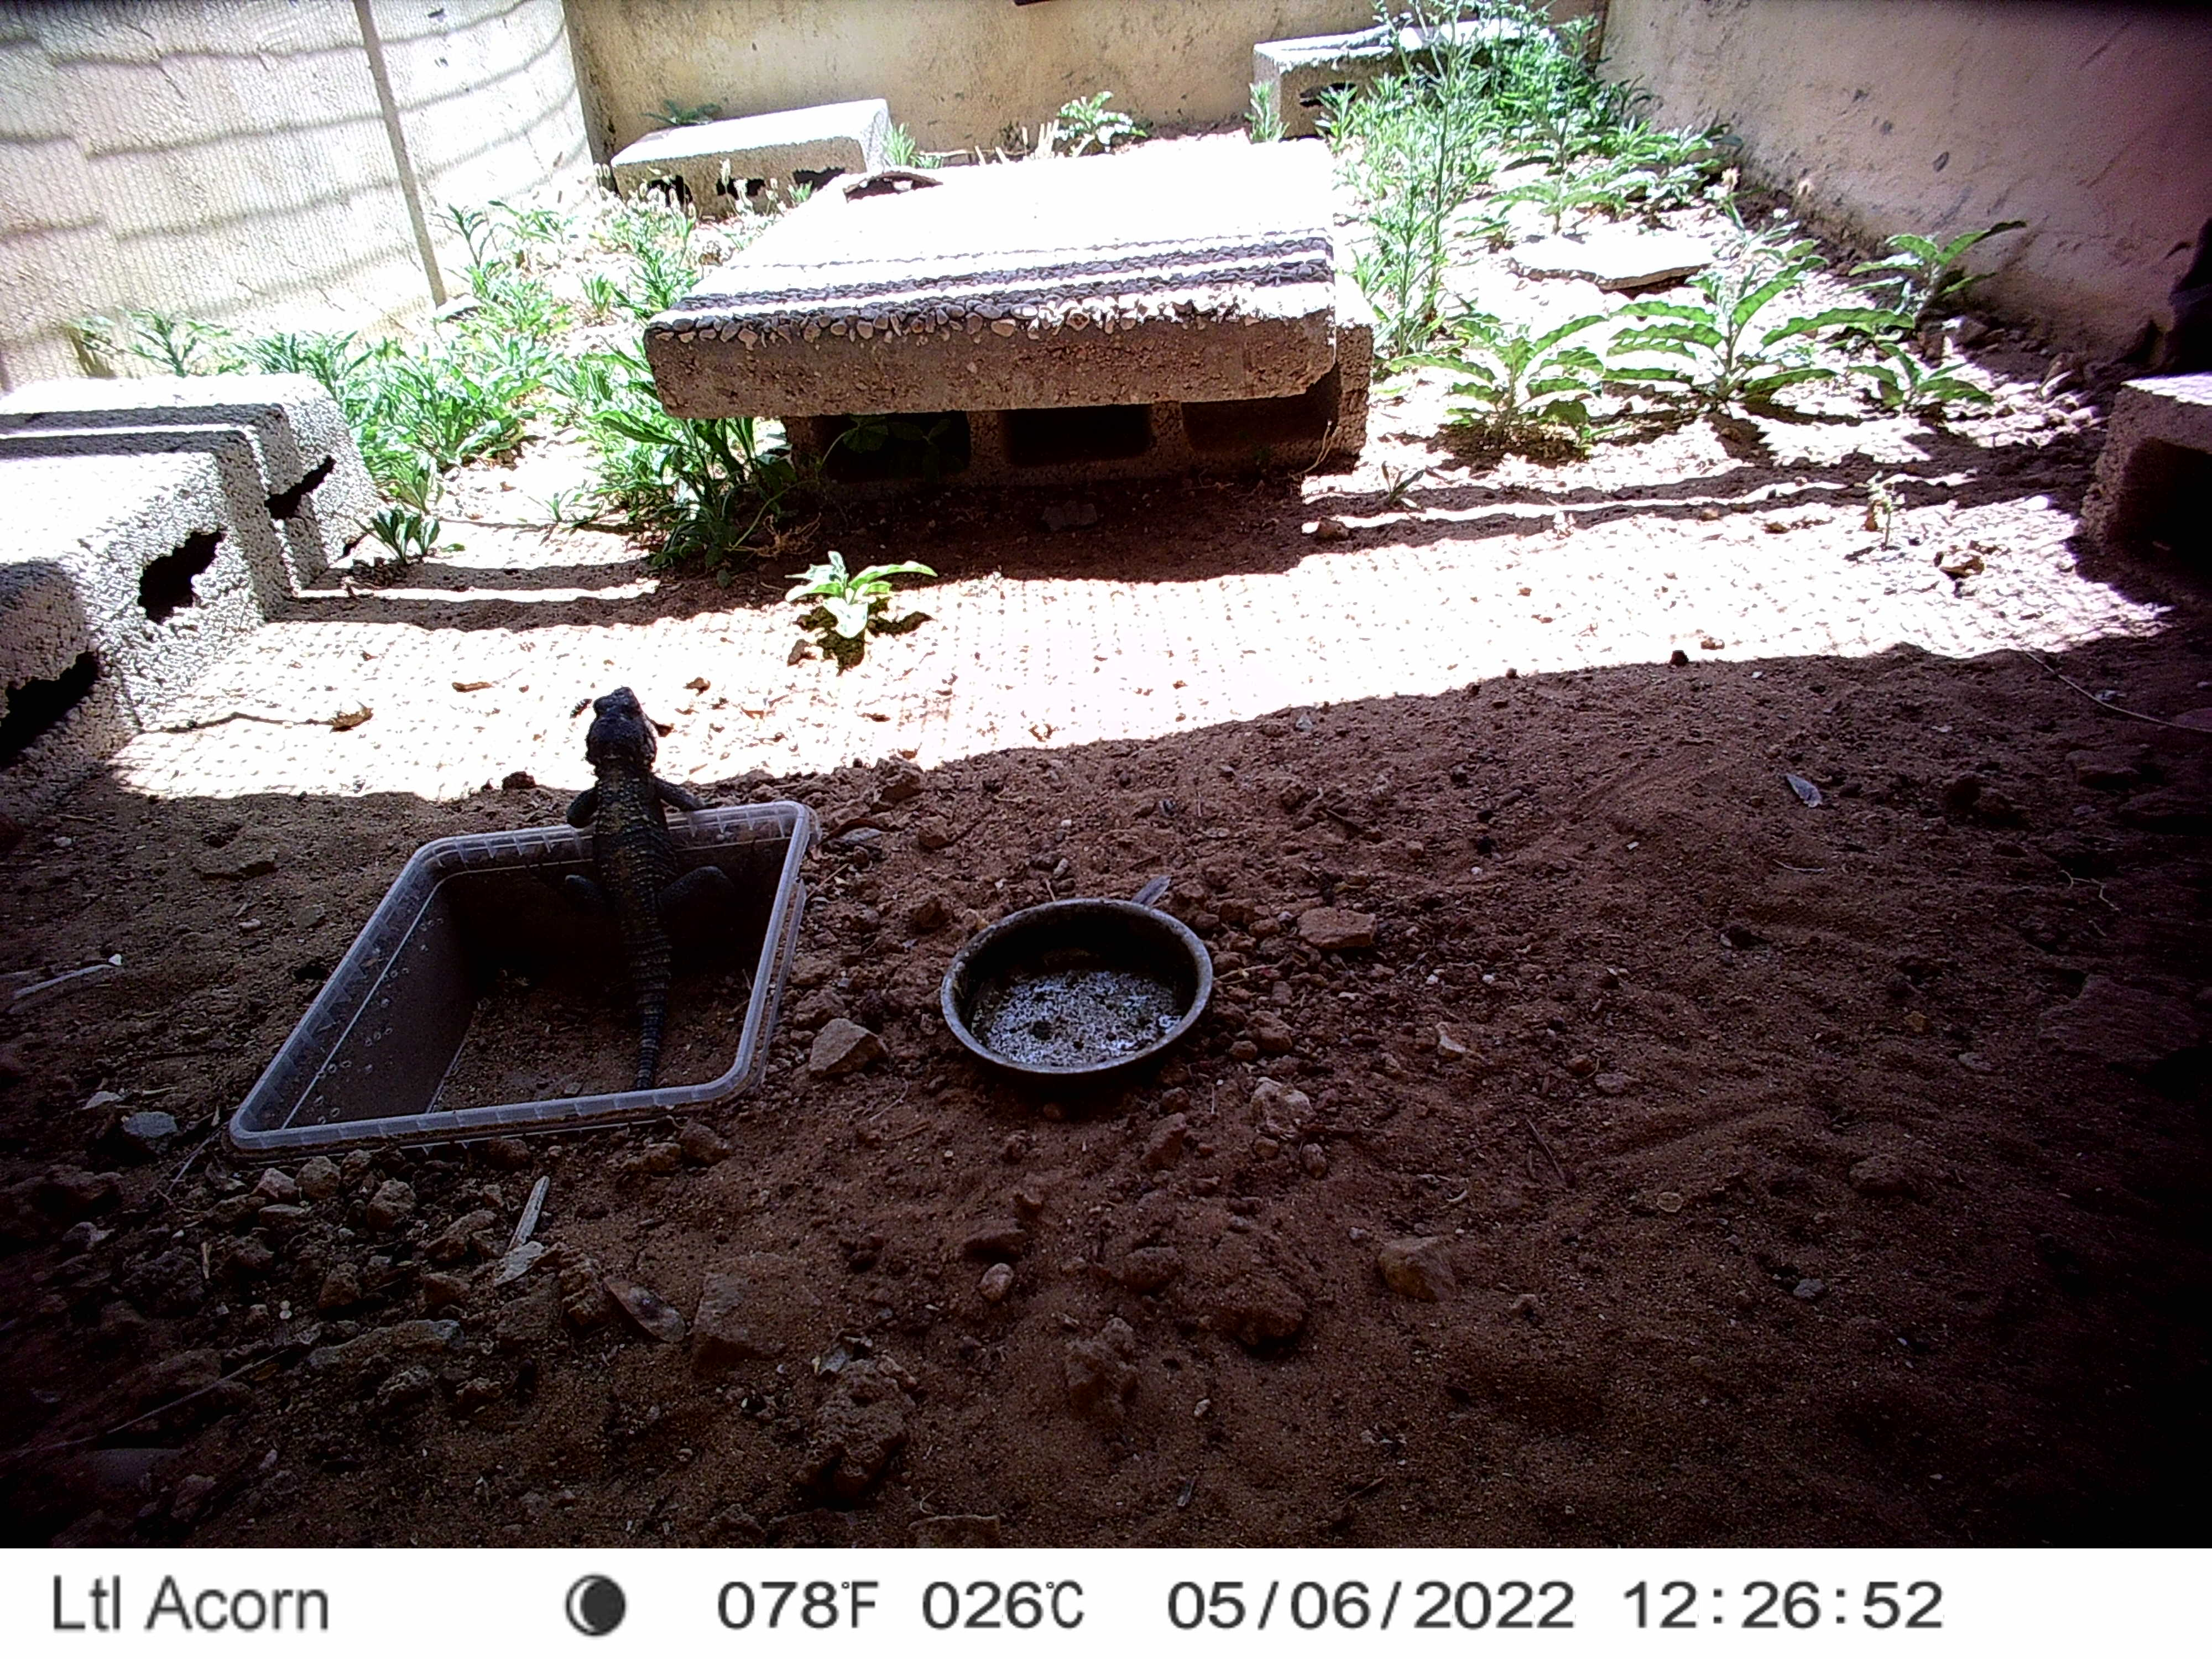lizard: (564, 685, 735, 1068), (1287, 10, 1414, 58)
